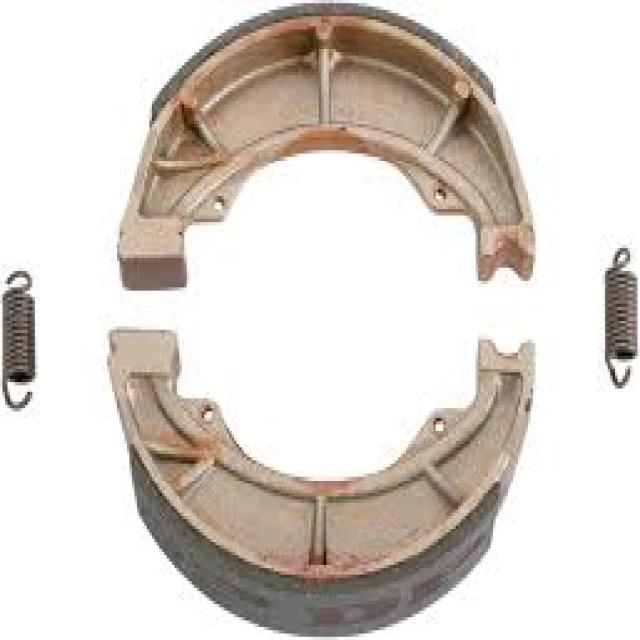brake_pad: (101, 311, 539, 640), (112, 0, 543, 292)
